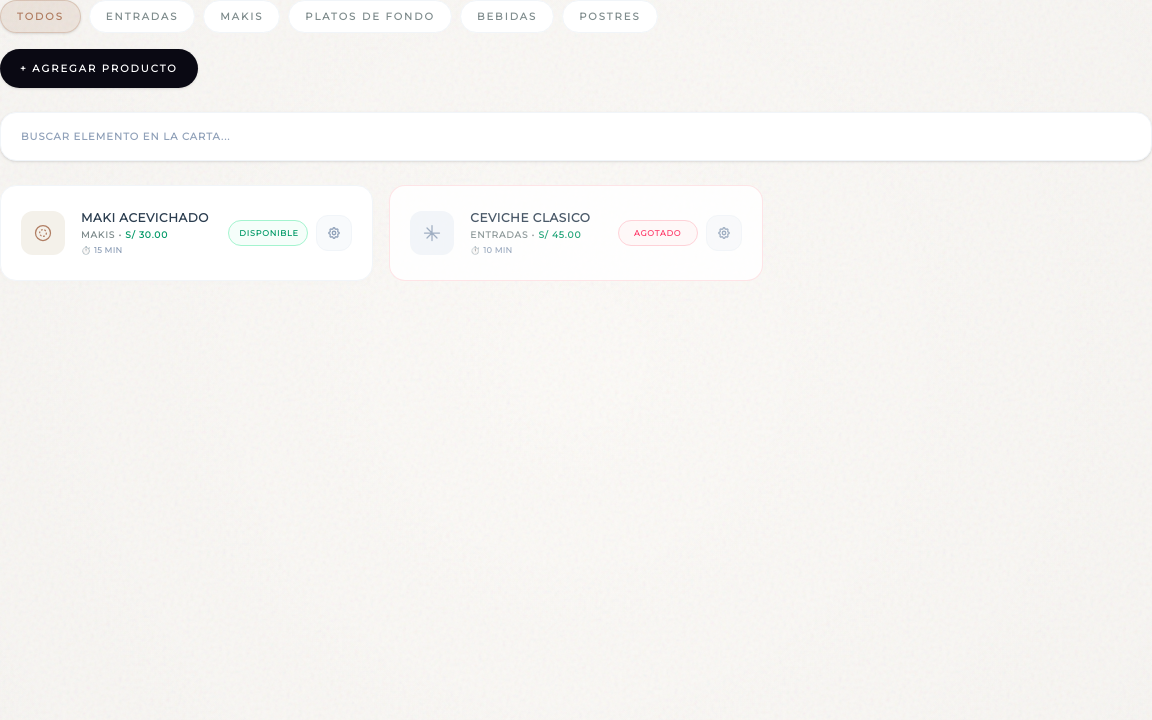
Test: 🧪 Tests para ViewCarta › Debería cerrar el formulario de edición al presionar Cancelar
Check: the text "MAKI ACEVICHADO" is shown, box [81,210,209,226]
Click the button without text in the row of "MAKI ACEVICHADO".
click(334, 233)  # box [316,215,352,251]
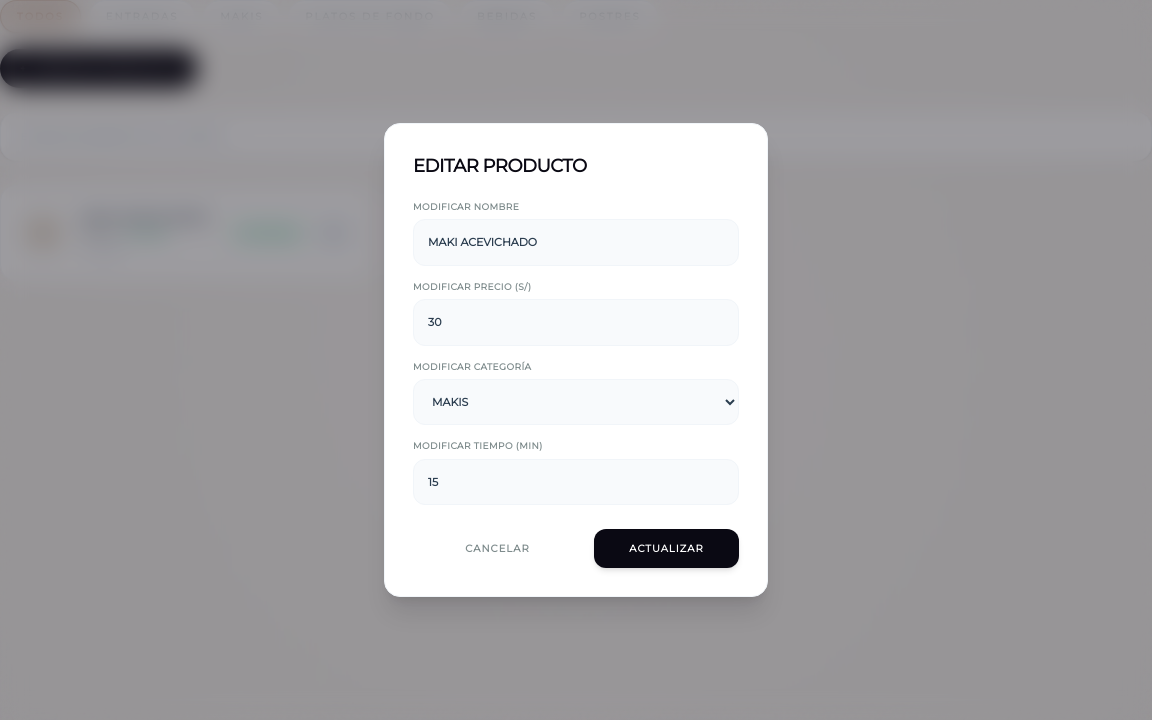
Check: the heading "Editar Producto" is shown, box [413,155,587,177]
Cambiar la categoría y el tiempo estimado para cubrir esas líneas
Select "ENTRADAS" in the dropdown with id "editar-categoria" at (576, 402), box [413,379,739,425]
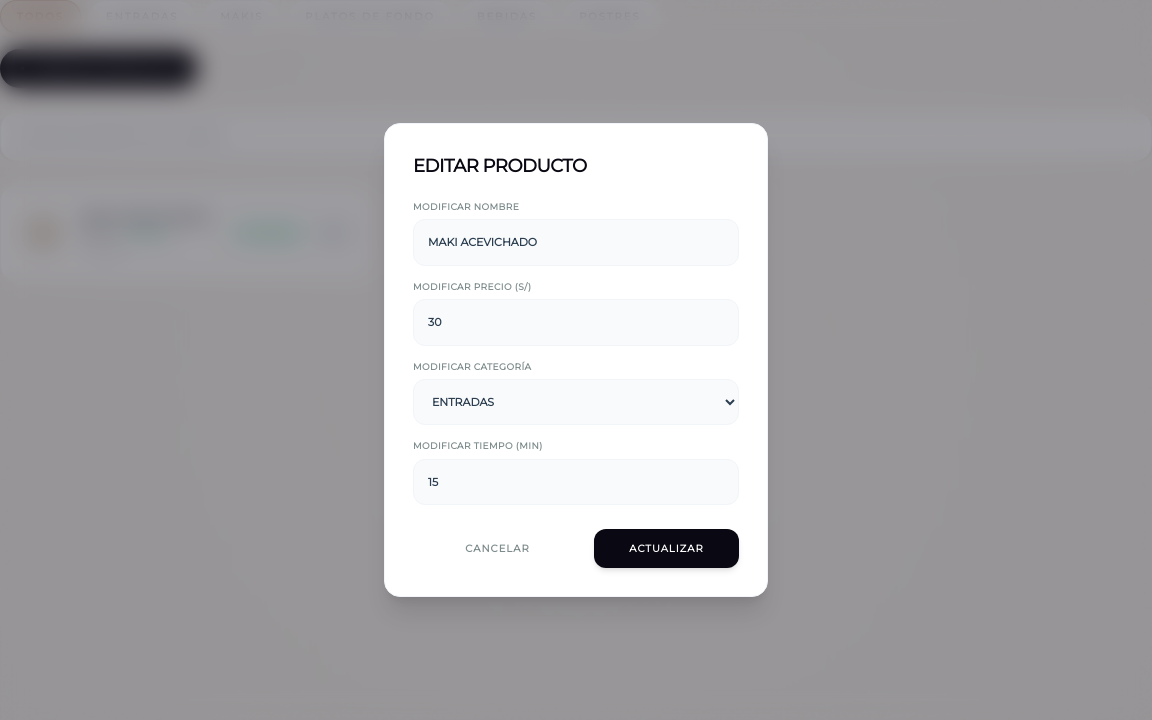
Replace the text in the number field with id "editar-tiempo" with "25" at (576, 482), box [413,459,739,505]
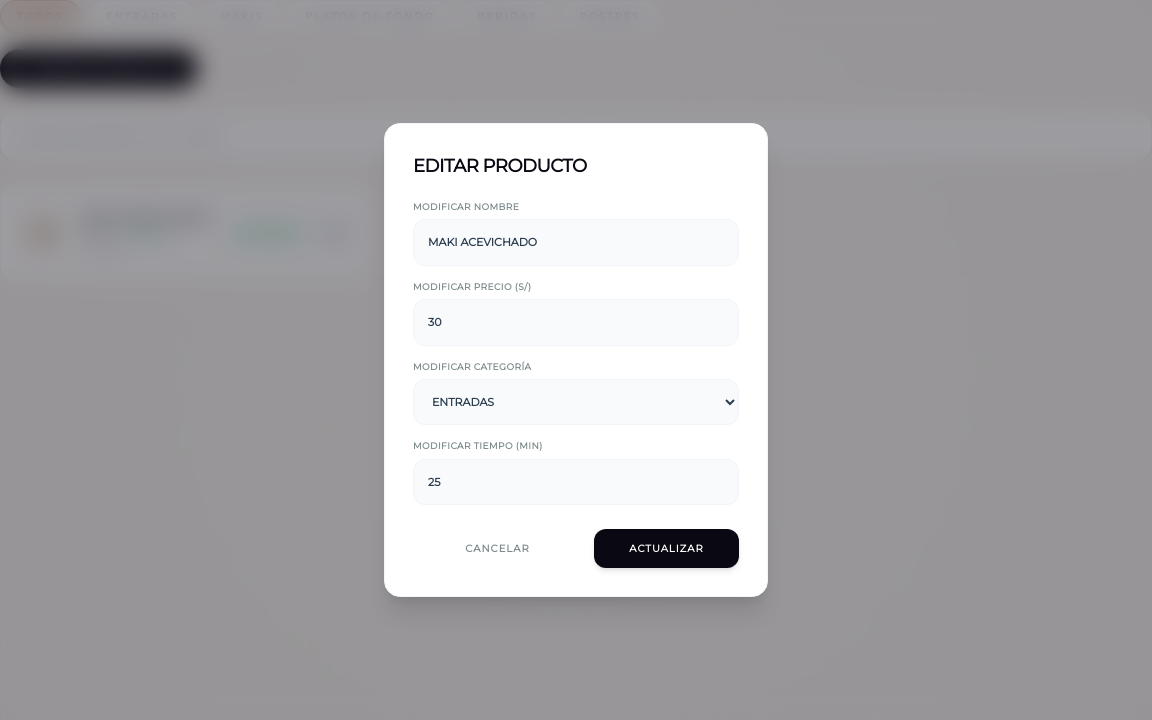
Click the button "CANCELAR".
click(498, 549)  # box [413,529,582,568]
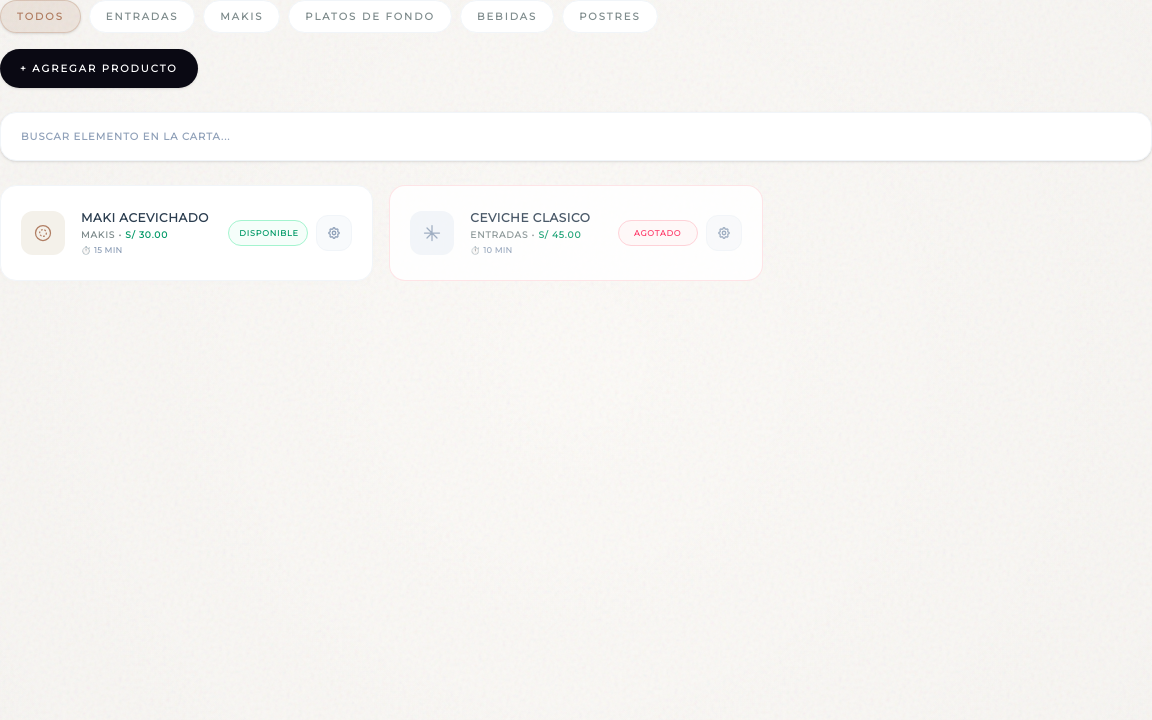
Check: the heading "Editar Producto" is gone
